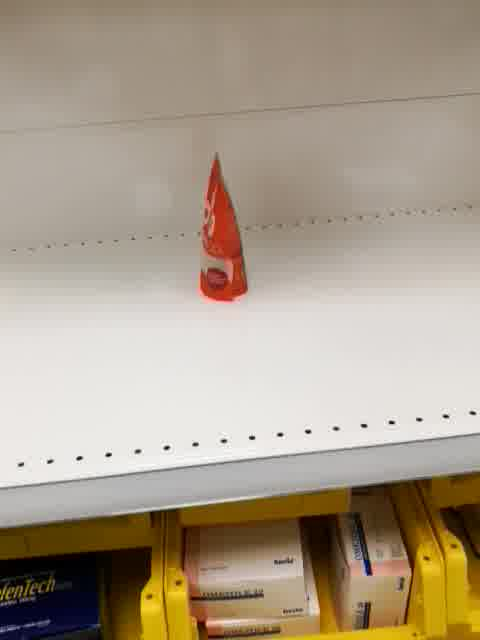whitechia: (196, 149, 252, 303)
